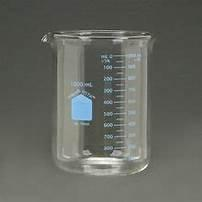Beaker: (36, 24, 159, 175)
